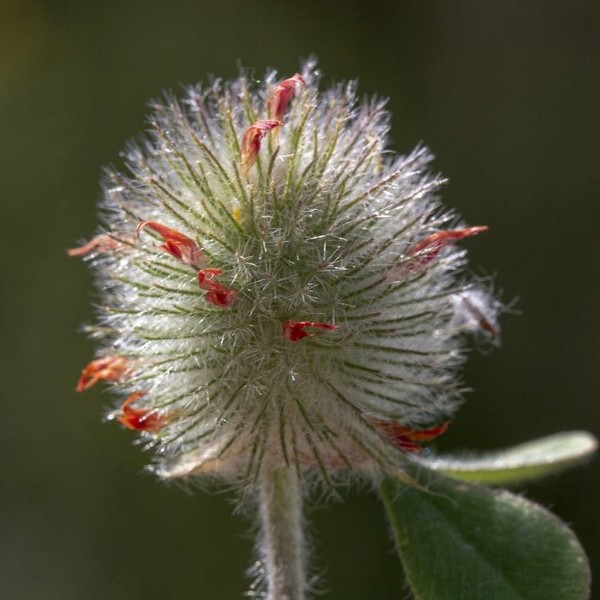obstacle: (82, 46, 562, 563)
